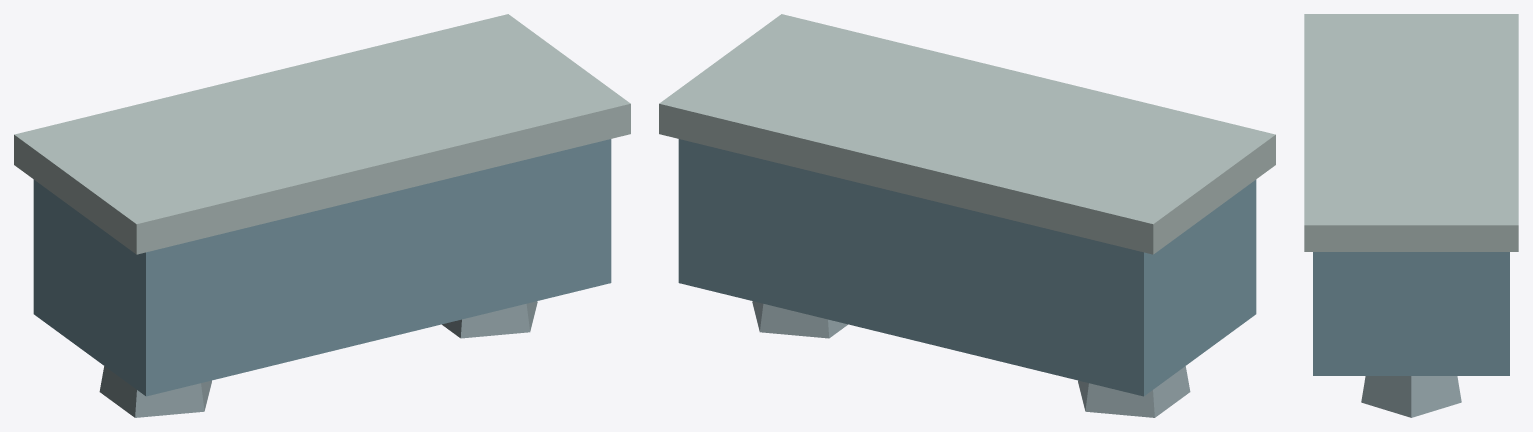
Rendered from map-exclusive-v3__frost_08.glb.
3 renders of one model, left to right at view 1: azimuth 30°, elevation 25°; view 2: azimuth 150°, elevation 25°; view 3: azimuth 270°, elevation 25°, orthographic. The views are drawn at different scales.
Visible parts, largest first — view 1: frost_08; view 2: frost_08; view 3: frost_08.
Part boxes in pixels (x1,y1,x2,y2): frost_08: [14, 14, 630, 417]; frost_08: [659, 14, 1275, 417]; frost_08: [1304, 14, 1518, 417].
Size of the model in its own units: 1.7 by 0.775 by 0.73.
